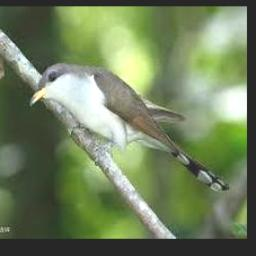Cuckoo: (29, 63, 229, 192)
